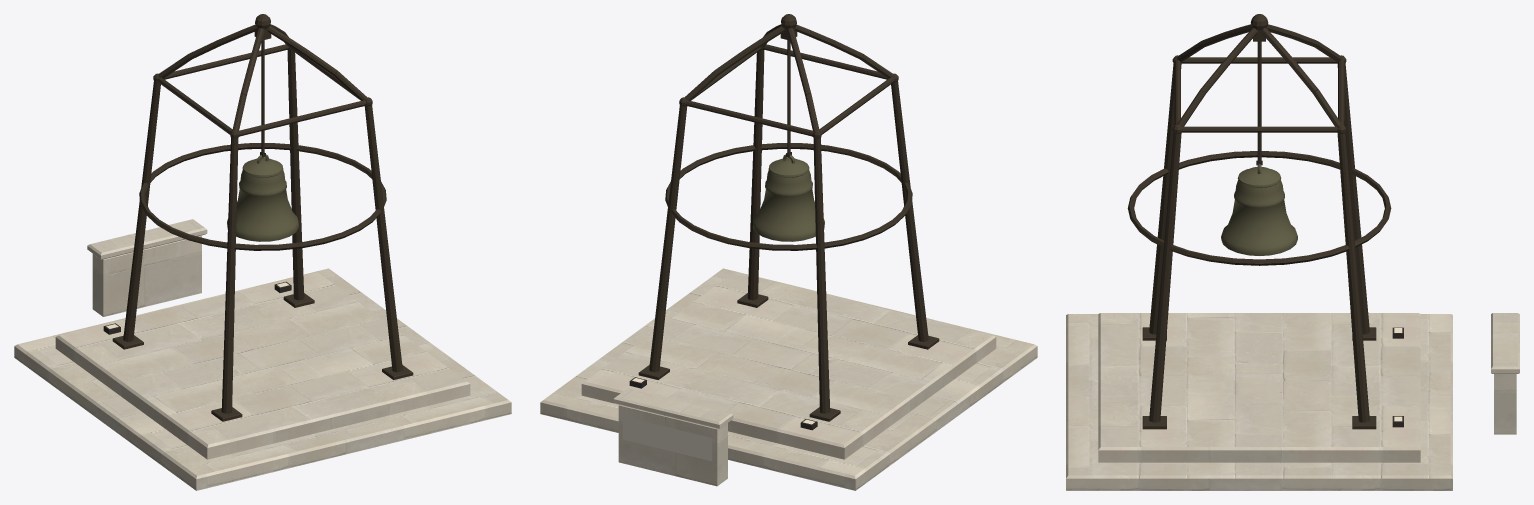
File: campus_bell.glb
3 renders of one model, left to right at view 1: azimuth 30°, elevation 25°; view 2: azimuth 150°, elevation 25°; view 3: azimuth 270°, elevation 25°, orthographic. The views are drawn at different scales.
Parts seen in each view (by area): view 1: bell_stone, bell_steel, bell_pstone, bell_bronze; view 2: bell_stone, bell_steel, bell_pstone, bell_bronze, PLATE_FACE_BELL; view 3: bell_stone, bell_steel, bell_bronze, bell_pstone.
Part boxes in pixels (left/top/right/bottom): bell_stone: left=14, top=268, right=511, bottom=490; bell_steel: left=112, top=14, right=413, bottom=421; bell_pstone: left=87, top=219, right=207, bottom=316; bell_bronze: left=227, top=154, right=298, bottom=241; bell_stone: left=540, top=268, right=1037, bottom=490; bell_steel: left=638, top=14, right=939, bottom=421; bell_pstone: left=613, top=388, right=733, bottom=486; bell_bronze: left=753, top=154, right=824, bottom=241; PLATE_FACE_BELL: left=623, top=416, right=712, bottom=461; bell_stone: left=1066, top=313, right=1452, bottom=490; bell_steel: left=1127, top=14, right=1391, bottom=429; bell_bronze: left=1221, top=164, right=1297, bottom=255; bell_pstone: left=1491, top=313, right=1519, bottom=434.
Size of the model in its own units: 4.8 by 5.4 by 5.63.
Materials: 7 (2 with a texture image).
